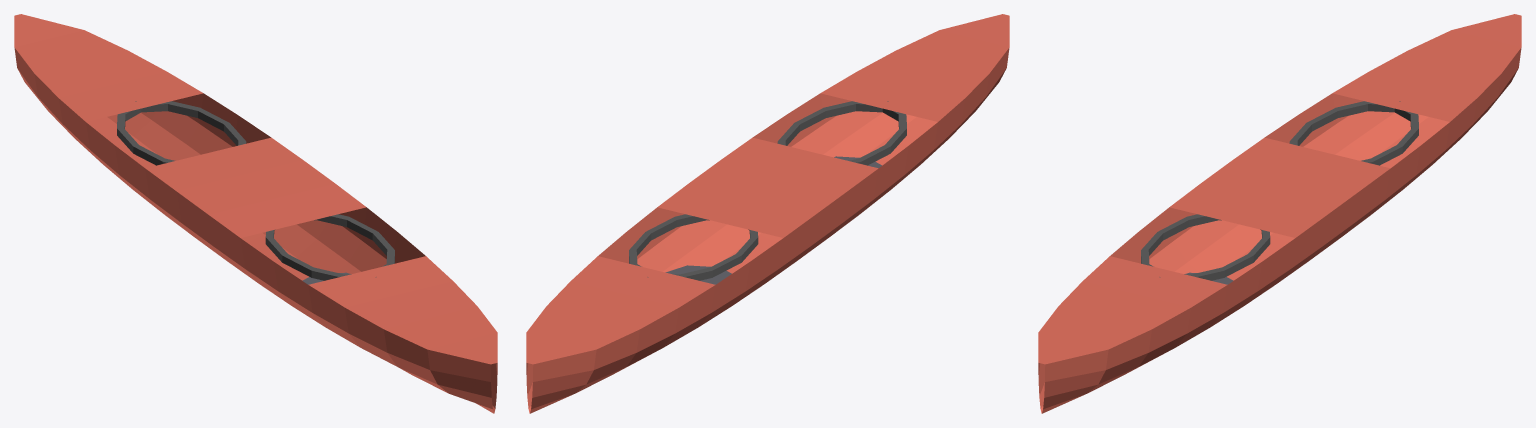
The model's file is kayak2.glb.
3 renders of one model, left to right at view 1: azimuth 30°, elevation 25°; view 2: azimuth 150°, elevation 25°; view 3: azimuth 330°, elevation 25°, orthographic.
Parts seen in each view (by area): view 1: Kayak2_hull, Kayak2_coaming, Kayak2_coaming.001; view 2: Kayak2_hull, Kayak2_coaming.001, Kayak2_coaming; view 3: Kayak2_hull, Kayak2_coaming, Kayak2_coaming.001.
Part boxes in pixels (x1,y1,x2,y2): Kayak2_hull: [14, 14, 497, 413]; Kayak2_coaming: [117, 101, 246, 165]; Kayak2_coaming.001: [265, 214, 394, 280]; Kayak2_hull: [526, 14, 1009, 413]; Kayak2_coaming.001: [777, 101, 906, 165]; Kayak2_coaming: [629, 214, 758, 280]; Kayak2_hull: [1038, 14, 1521, 413]; Kayak2_coaming: [1289, 101, 1418, 165]; Kayak2_coaming.001: [1141, 214, 1270, 280].
Bounding box in the file's own units: 0.7397 × 0.3894 × 4.8.
